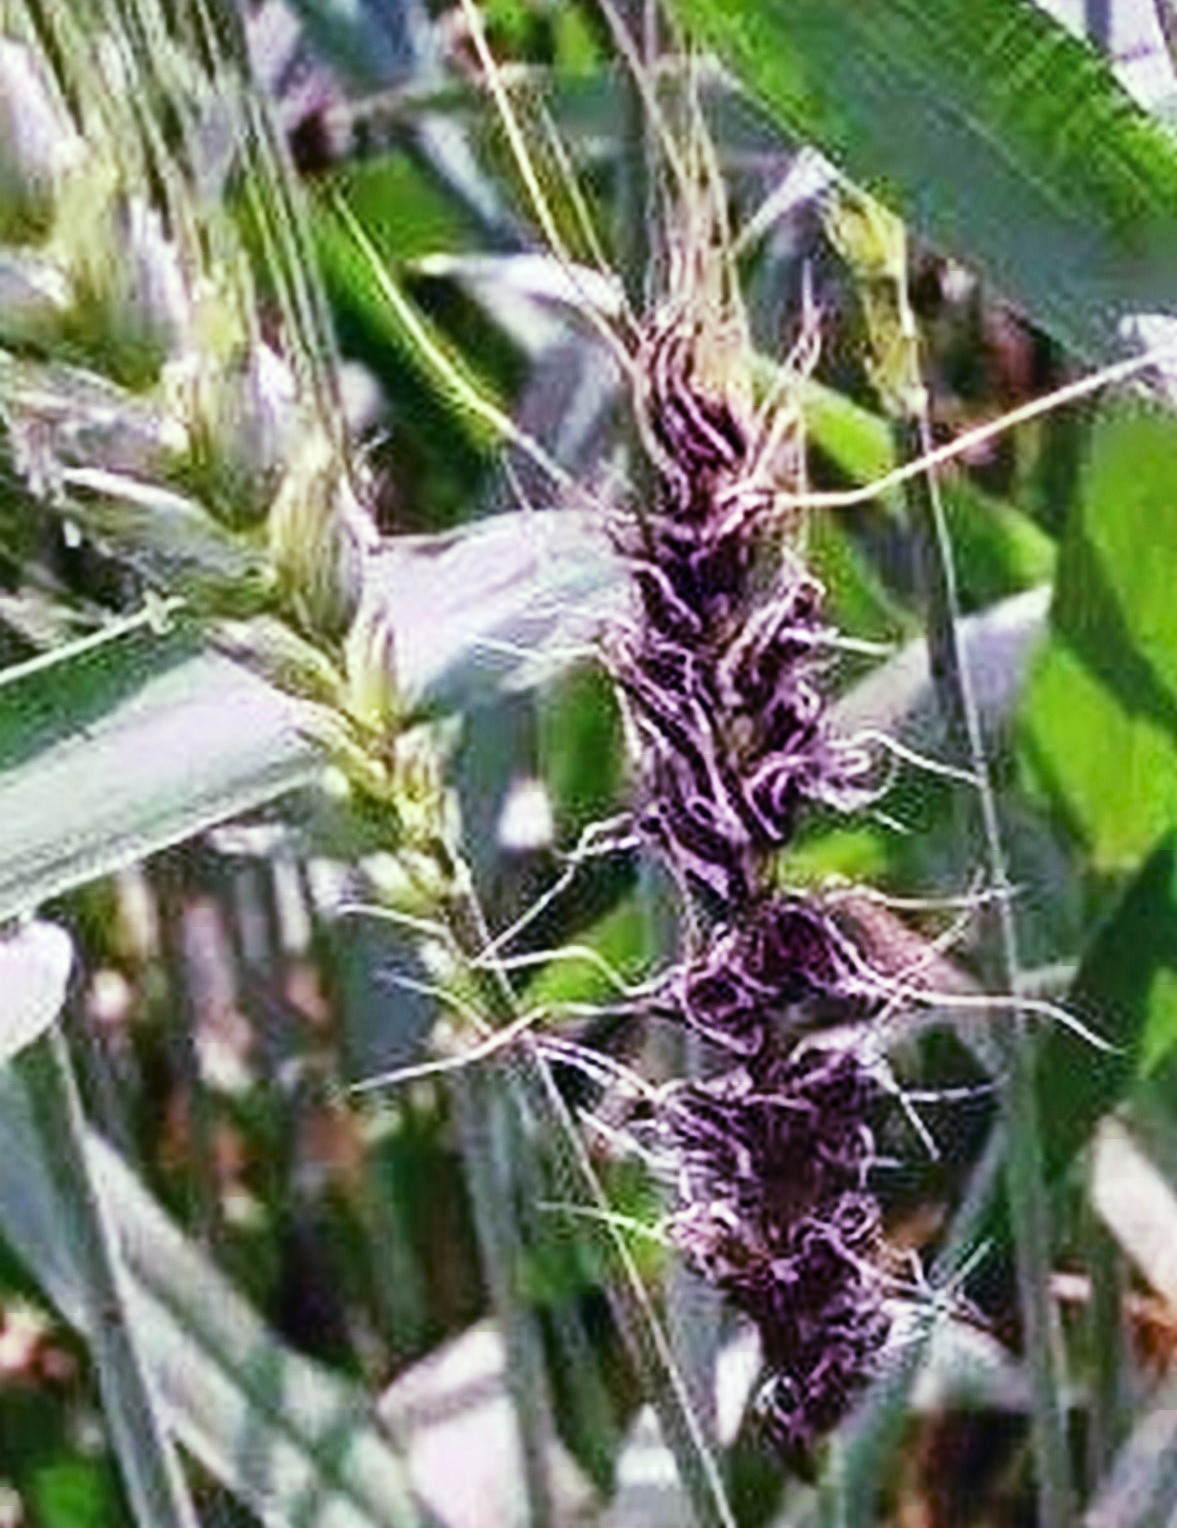Wheat Loose Smut: (551, 305, 987, 1370)
